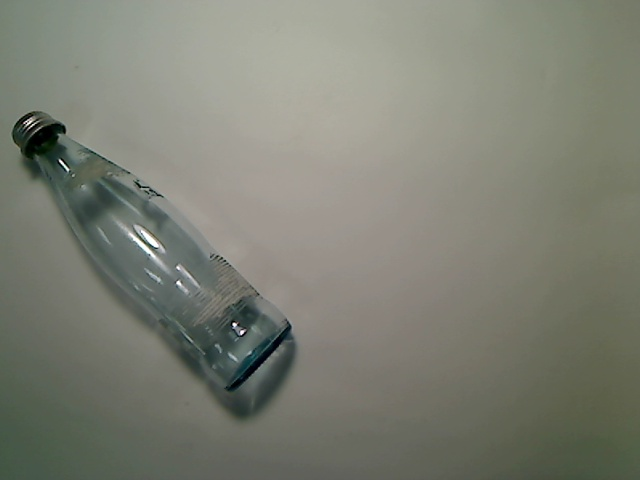bottle: (11, 109, 292, 391)
